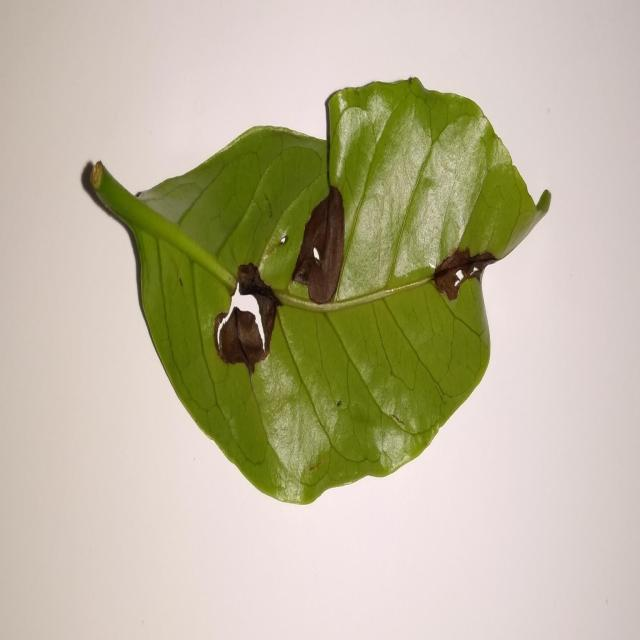Enfermedad-Antracnosis: (79, 78, 552, 508)
